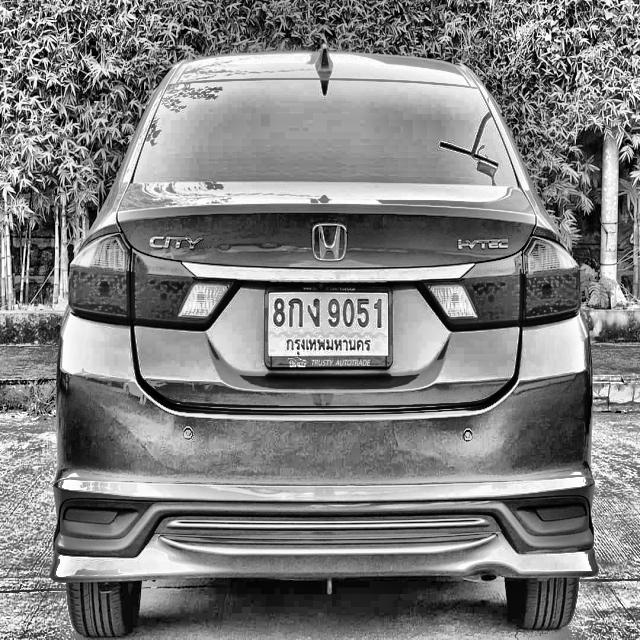license-plate: (264, 279, 393, 371)
